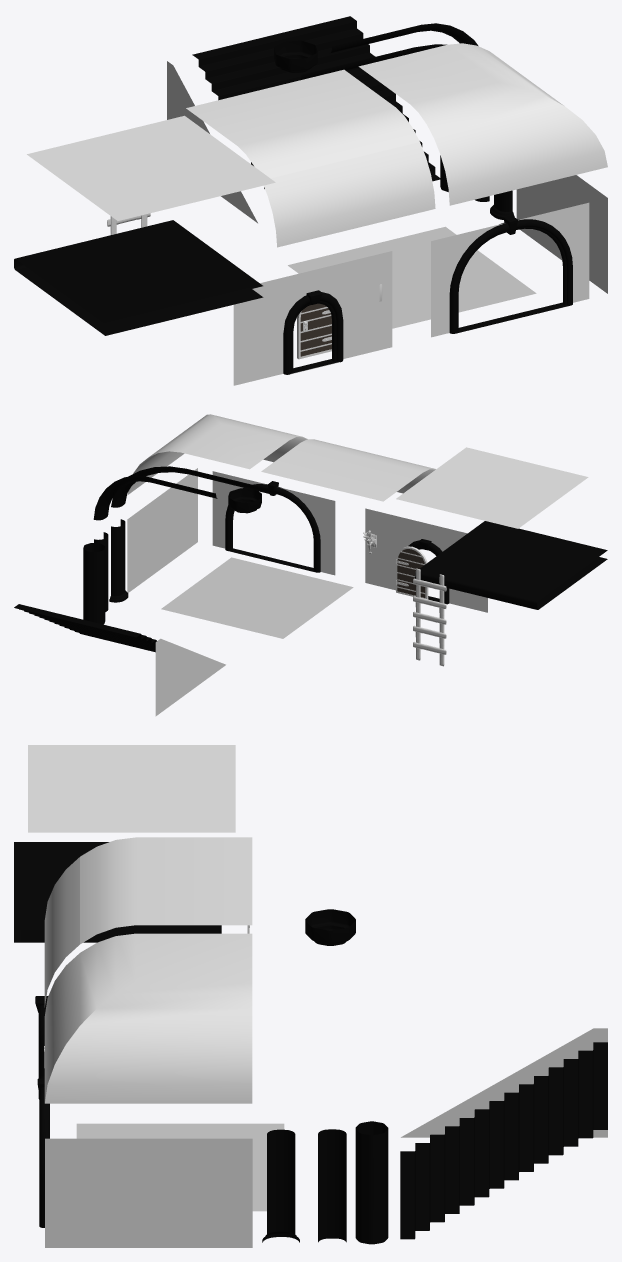
The model's file is dungeon room.fbx.
3 renders of one model, top to bottom at view 1: azimuth 30°, elevation 25°; view 2: azimuth 150°, elevation 25°; view 3: azimuth 270°, elevation 25°, orthographic. The views are drawn at different scales.
Visible parts, largest first — view 1: side selling, angel ceiling, second floor, regular seiling, small dor wall, big door wall, floor, big stairs, regular wall, door, big stairs side, arch connector (+3 smaller); view 2: second floor, floor, regular seiling, side selling, regular wall, angel ceiling, small dor wall, big door wall, big stairs side, big stairs, big column, vertical stair (+5 smaller); view 3: angel ceiling, regular wall, side selling, big stairs, regular seiling, second floor, floor, big column, big stairs side, arch usual part, arch column, arch connector (+1 smaller).
Part boxes in pixels (<box>): side selling: <box>186,69,435,247</box>; angel ceiling: <box>358,43,607,205</box>; second floor: <box>14,220,263,335</box>; regular seiling: <box>27,115,275,220</box>; small dor wall: <box>233,251,392,385</box>; big door wall: <box>431,202,589,337</box>; floor: <box>288,226,536,328</box>; big stairs: <box>192,16,440,188</box>; regular wall: <box>516,175,607,293</box>; door: <box>297,303,331,359</box>; big stairs side: <box>167,61,257,223</box>; arch connector: <box>274,40,317,72</box>; second floor: <box>415,521,607,609</box>; floor: <box>161,557,353,638</box>; regular seiling: <box>396,447,588,528</box>; side selling: <box>261,439,435,501</box>; regular wall: <box>127,468,197,592</box>; angel ceiling: <box>127,414,307,495</box>; small dor wall: <box>365,508,487,612</box>; big door wall: <box>212,471,335,575</box>; big stairs side: <box>155,638,225,716</box>; big stairs: <box>14,604,156,652</box>; big column: <box>83,543,105,624</box>; vertical stair: <box>413,568,446,666</box>; angel ceiling: <box>44,933,252,1103</box>; regular wall: <box>45,1138,252,1247</box>; side selling: <box>44,837,252,1007</box>; big stairs: <box>400,1042,607,1239</box>; regular seiling: <box>28,745,235,832</box>; second floor: <box>14,842,221,942</box>; floor: <box>76,1123,284,1211</box>; big column: <box>355,1121,388,1244</box>; big stairs side: <box>401,1028,607,1137</box>; arch usual part: <box>318,1129,346,1242</box>; arch column: <box>262,1129,299,1242</box>; arch connector: <box>305,909,355,945</box>.
Bounding box in the file's own units: 2624 × 966 × 2288.
